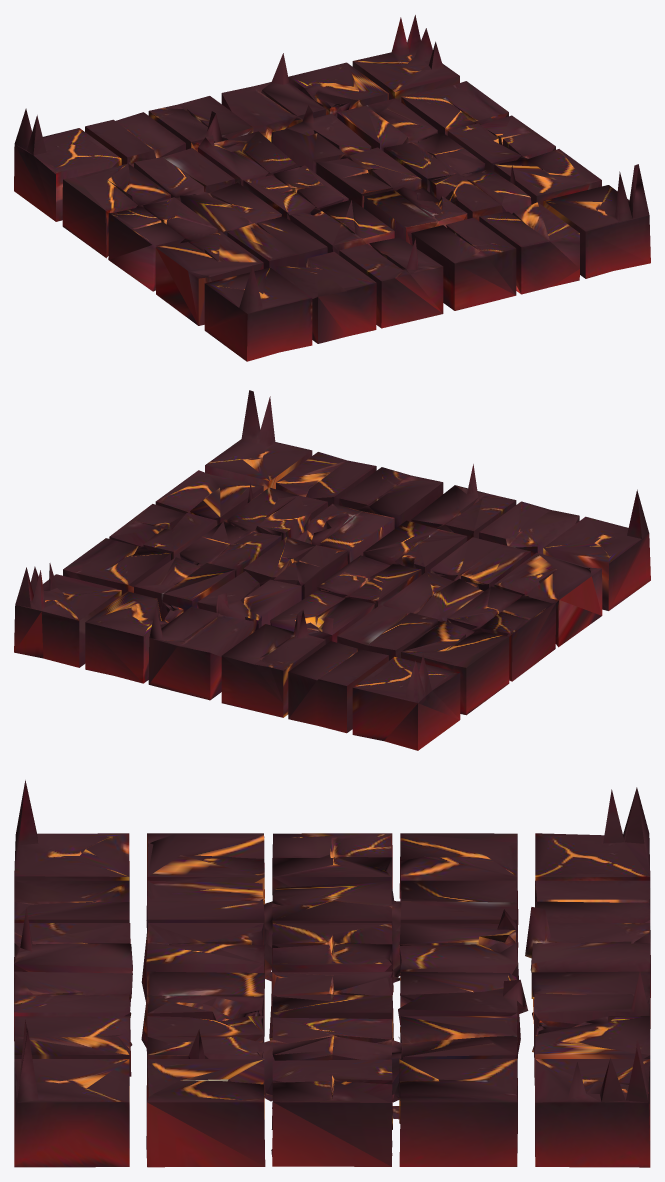
Rendered from Floor.obj.
The picture shows the model from 3 angles, top to bottom: view 1: azimuth 30°, elevation 25°; view 2: azimuth 150°, elevation 25°; view 3: azimuth 270°, elevation 25°; orthographic projection. The views are drawn at different scales.
Parts seen in each view (by area): view 1: tripo_node_2cba86f1-2195-4984-ae89-26e89142e6c3; view 2: tripo_node_2cba86f1-2195-4984-ae89-26e89142e6c3; view 3: tripo_node_2cba86f1-2195-4984-ae89-26e89142e6c3.
Boxes of the visible parts, x1,y1,x2,y2 form: tripo_node_2cba86f1-2195-4984-ae89-26e89142e6c3: [14, 15, 650, 361]; tripo_node_2cba86f1-2195-4984-ae89-26e89142e6c3: [14, 390, 650, 750]; tripo_node_2cba86f1-2195-4984-ae89-26e89142e6c3: [14, 780, 650, 1167].
Bounding box in the file's own units: 0.9997 × 0.2319 × 0.9994.
1 material, 1 textured.
